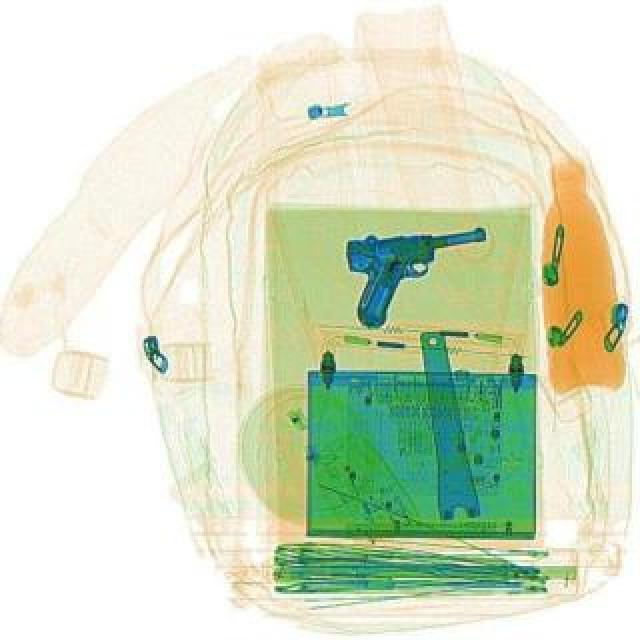gun: (344, 224, 500, 330)
